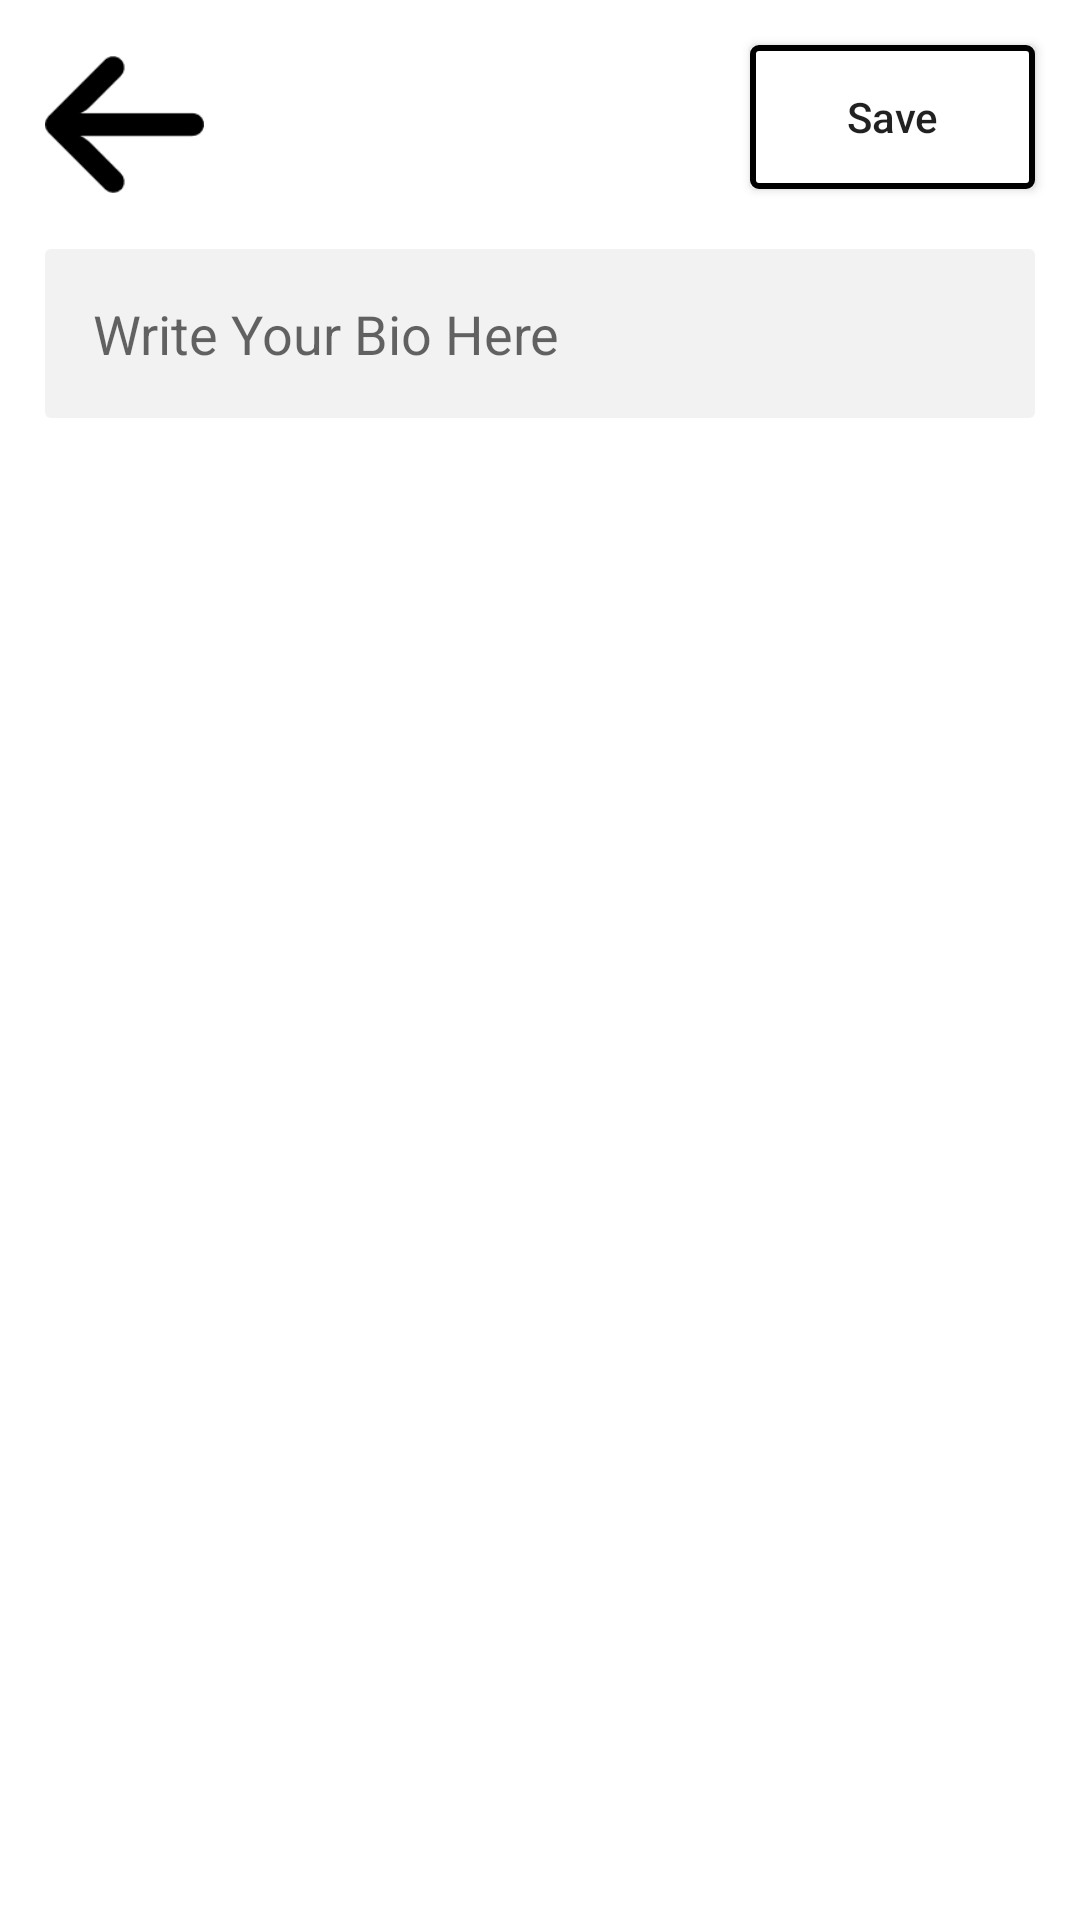

Icon click points for this 1080 x 1920 phone screenshot, format point (x, y):
left arrow: point (124, 124)
